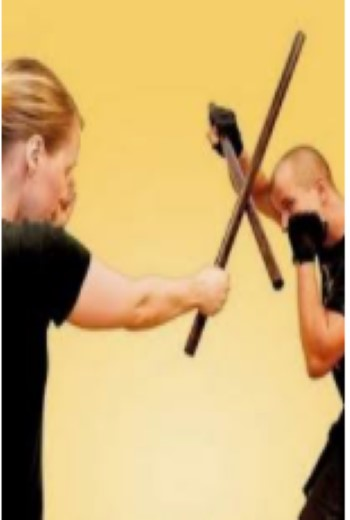baston_e: (205, 46, 309, 270), (212, 148, 285, 264)
baston_v: (288, 20, 314, 54), (261, 263, 287, 294), (200, 90, 223, 118), (177, 332, 201, 358)
